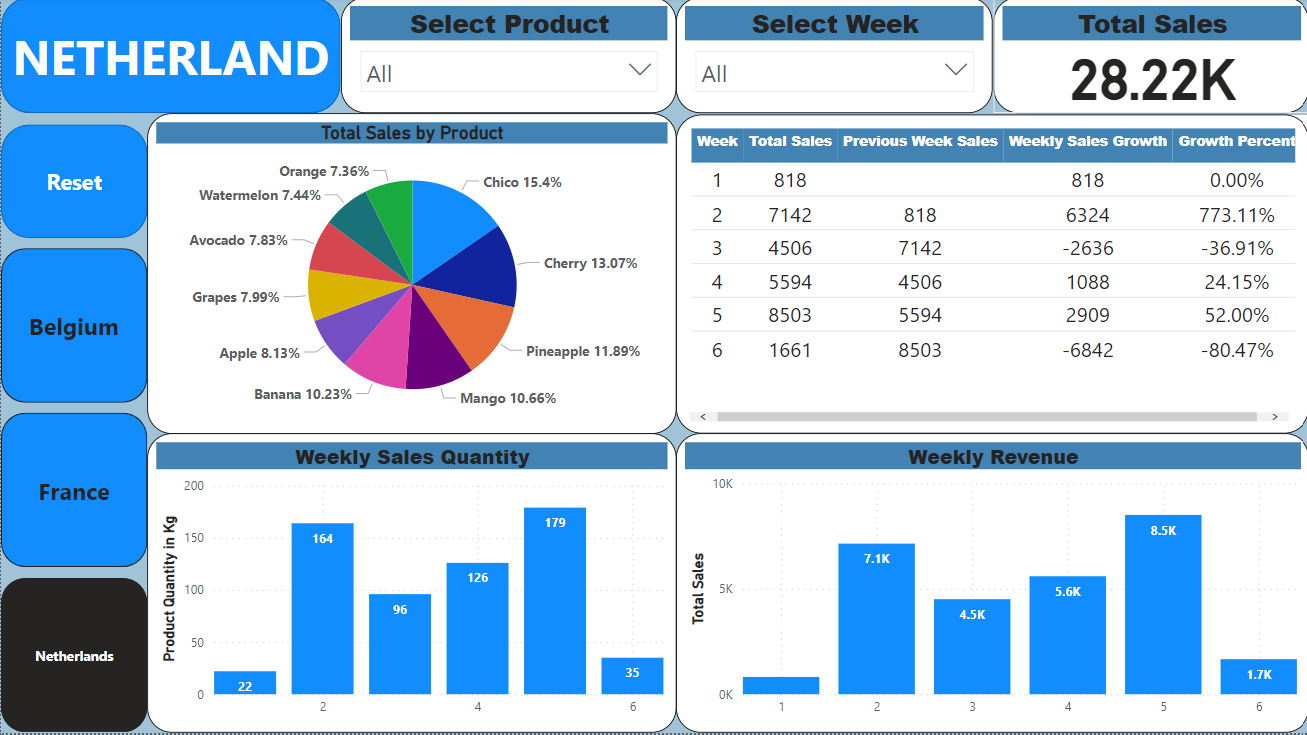

The dashboard page shown, as its layout file describes it:
{"tool":"powerbi","page":{"name":"Netherlands","canvas":[1280,720],"ordinal":2},"visuals":[{"type":"shape","box":[0,0,332.1,113.6],"z":0},{"type":"shape","title":"Clear","box":[0,124.7,143.2,111.1],"z":1000},{"type":"pageNavigator","box":[0,245.7,143.2,474.1],"z":2000},{"type":"slicer","title":"Select Product","fields":{"Values":["Netherlans.product_name"]},"box":[332.1,0,328.4,113.6],"z":3000},{"type":"slicer","title":"Select Week","fields":{"Values":["Netherlans.Week_No_Netherland"]},"box":[660.5,0,309.9,113.6],"z":4000},{"type":"card","title":"Total Sales ","fields":{"Values":["Netherlans.TotalSales_Netherland"]},"box":[970.1,0,309.9,113.6],"z":5000},{"type":"pieChart","title":"Total Sales by Product","fields":{"Category":["Netherlans.product_name"],"Y":["Netherlans.TotalSales_Netherland"]},"box":[143.2,113.6,517.3,313.6],"z":6000},{"type":"tableEx","fields":{"Values":["Netherlans.Week_No_Netherland","Netherlans.TotalSales_Netherland","Netherlans.Previous_week_Netherland","Netherlans.WOW_Netherland","Netherlans.% Growth_Netherland"]},"box":[660.5,114.8,619.8,312.3],"z":7000},{"type":"clusteredColumnChart","title":"Weekly Sales Quantity ","fields":{"Category":["Netherlans.Week_No_Netherland"],"Y":["Sum(Netherlans.weight_kg)"]},"box":[143.2,427.2,517.3,292.6],"z":8000},{"type":"columnChart","title":"Weekly Revenue","fields":{"Category":["Netherlans.Week_No_Netherland"],"Y":["Netherlans.TotalSales_Netherland"]},"box":[660.5,427.2,619.8,292.6],"z":9000}]}

Visuals, with their boxes in screenshot pixels (x1, y1, x2, y2), scaled from the page's 1280x720 canvas onto the 1307x735 screenshot:
shape: <region>0, 0, 339, 116</region>
"Clear" shape: <region>0, 127, 146, 241</region>
pageNavigator: <region>0, 251, 146, 734</region>
"Select Product" slicer: <region>339, 0, 674, 116</region>
"Select Week" slicer: <region>674, 0, 991, 116</region>
"Total Sales " card: <region>991, 0, 1306, 116</region>
"Total Sales by Product" pieChart: <region>146, 116, 674, 436</region>
tableEx - Netherlans.Week_No_Netherland x Netherlans.TotalSales_Netherland: <region>674, 117, 1306, 436</region>
"Weekly Sales Quantity " clusteredColumnChart: <region>146, 436, 674, 734</region>
"Weekly Revenue" columnChart: <region>674, 436, 1306, 734</region>
